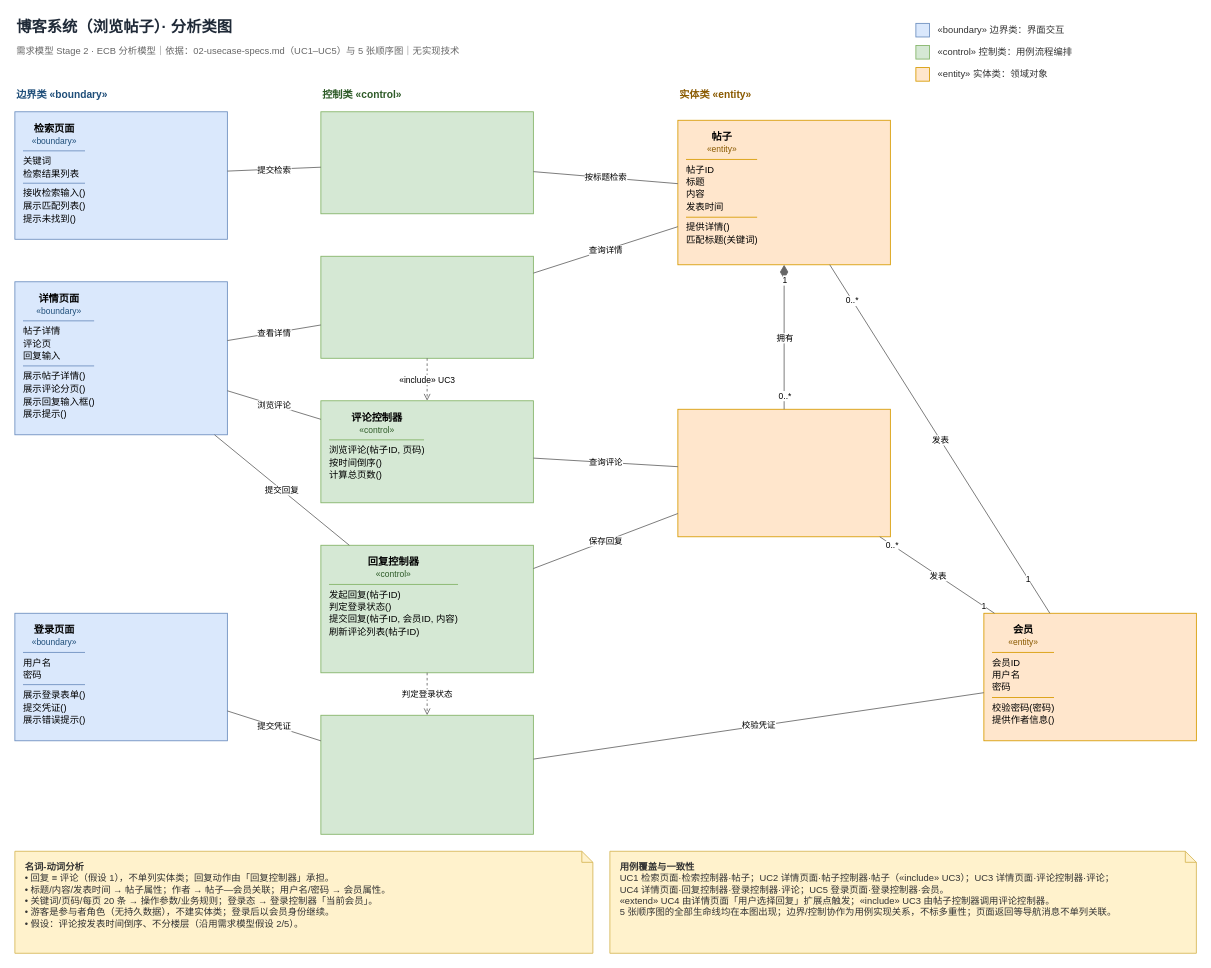
The diagram is 1211 pixels wide and 968 high, and some of its shapes have lost their labels. The shapes that lost their labels are listed below. From the top down, each one's centre as x and y in pixels, then its label:
the point at 426,162: 检索控制器 «control» 检索帖子(标题关键词) 返回匹配列表()
the point at 426,306: 帖子控制器 «control» 查看帖子详情(帖子ID) 加载评论(帖子ID, 页码)
the point at 783,472: 评论 «entity» 评论ID 内容 发表时间 提供内容()
the point at 426,774: 登录控制器 «control» 当前会员 校验凭证(用户名, 密码) 建立登录态(会员) 返回原页面()
